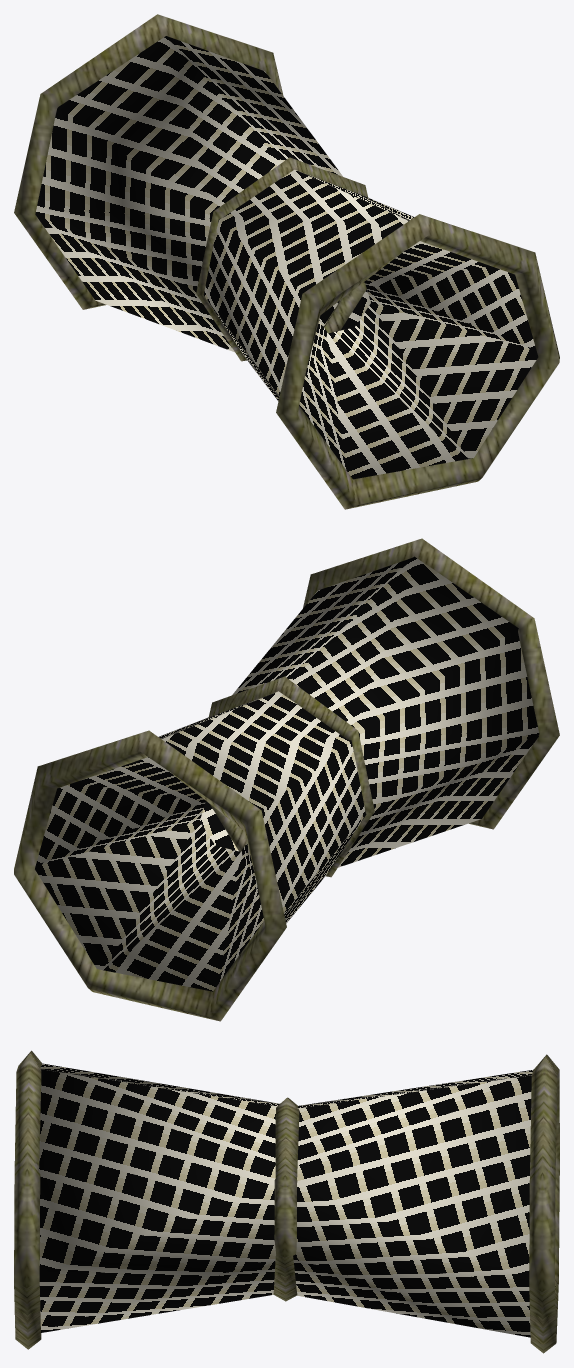
File: bownet.obj
3 views of the same model, one above another, from view 1: azimuth 30°, elevation 25°; view 2: azimuth 150°, elevation 25°; view 3: azimuth 270°, elevation 25° (orthographic). The views are drawn at different scales.
Parts seen in each view (by area): view 1: Duplicate06, Duplicate05, Duplicate02, Duplicate03, Duplicate04; view 2: Duplicate02, Duplicate06, Duplicate03, Duplicate04; view 3: Duplicate02, Duplicate06, Duplicate03, Duplicate04.
Boxes of the visible parts, x1,y1,x2,y2 form: Duplicate06: (35, 36, 342, 352); Duplicate05: (299, 241, 538, 479); Duplicate02: (14, 14, 414, 401); Duplicate03: (276, 214, 559, 509); Duplicate04: (196, 157, 368, 361); Duplicate02: (14, 556, 539, 1021); Duplicate06: (35, 691, 366, 991); Duplicate03: (303, 538, 559, 829); Duplicate04: (209, 676, 374, 877); Duplicate02: (39, 1054, 559, 1353); Duplicate06: (293, 1069, 533, 1337); Duplicate03: (14, 1050, 41, 1349); Duplicate04: (273, 1097, 299, 1301).
Size of the model in its own units: 24.77 by 23.02 by 42.45.
